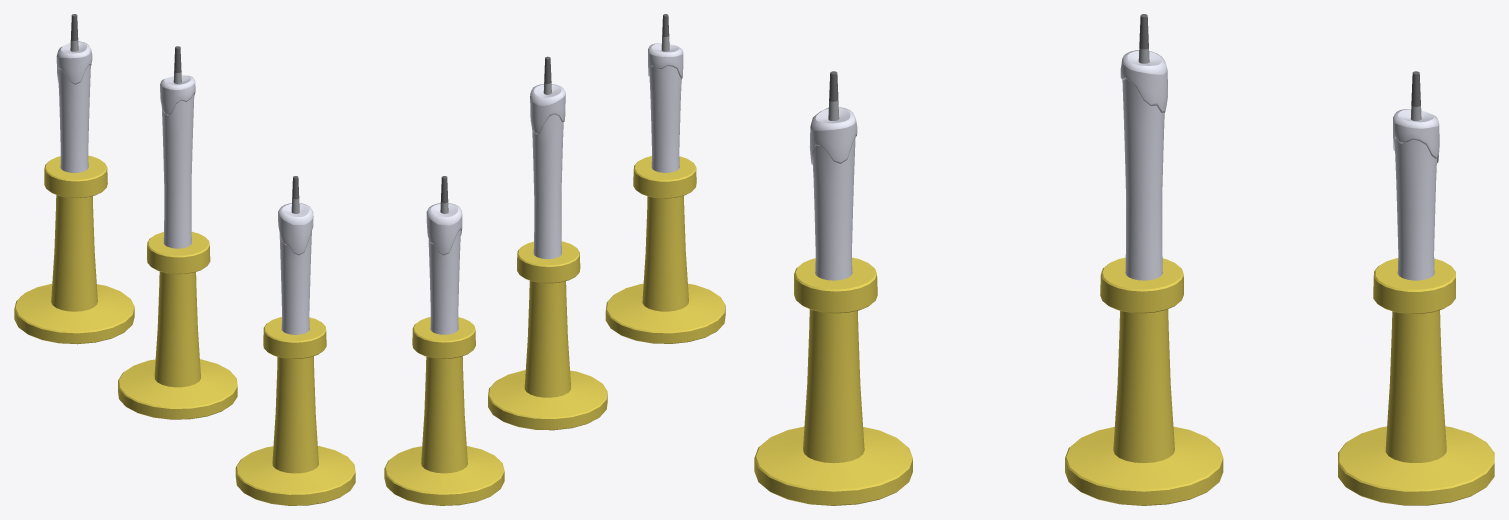
File: Candles.glb
The picture shows the model from 3 angles, left to right: view 1: azimuth 30°, elevation 25°; view 2: azimuth 150°, elevation 25°; view 3: azimuth 270°, elevation 25°; orthographic projection. The views are drawn at different scales.
Parts seen in each view (by area): view 1: Candles; view 2: Candles; view 3: Candles.
Part boxes in pixels (x1,y1,x2,y2): Candles: (14,14,355,505); Candles: (384,14,725,505); Candles: (754,14,1494,505).
Bounding box in the file's own units: 0.1537 × 0.4893 × 0.717.
3 materials, 2 textured.
